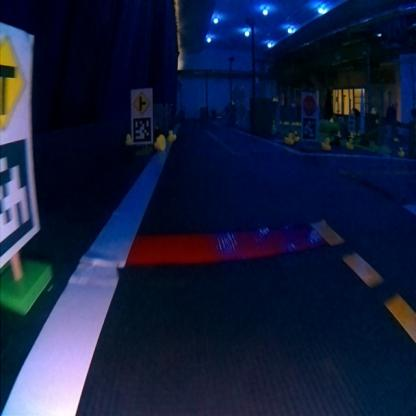Duckie: (156, 135, 166, 148), (169, 128, 177, 140), (286, 132, 294, 144), (323, 138, 332, 148), (348, 140, 356, 148), (294, 130, 300, 140), (126, 134, 130, 144), (400, 146, 405, 154)
Intersection sign: (132, 90, 154, 114)
QR code: (3, 140, 39, 257), (133, 117, 154, 143), (305, 117, 318, 137)
Stop sign: (304, 94, 317, 115)
